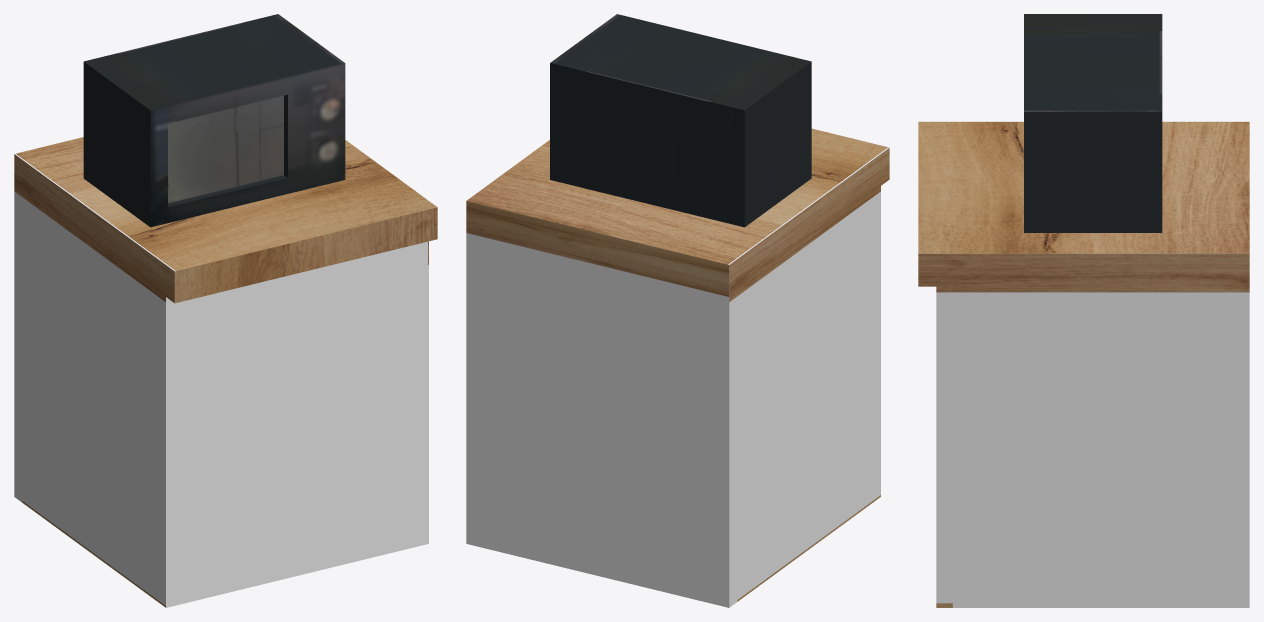
File: mikrofala.1glb.glb
3 views of the same model, side by side, from view 1: azimuth 30°, elevation 25°; view 2: azimuth 150°, elevation 25°; view 3: azimuth 270°, elevation 25° (orthographic). The views are drawn at different scales.
Parts seen in each view (by area): view 1: Cube.077, Cube.002; view 2: Cube.077, Cube.002; view 3: Cube.077, Cube.002.
Part boxes in pixels (bbox=[...]): Cube.077: bbox=[14, 137, 437, 607]; Cube.002: bbox=[83, 14, 345, 227]; Cube.077: bbox=[466, 128, 889, 607]; Cube.002: bbox=[550, 14, 811, 227]; Cube.077: bbox=[918, 121, 1249, 607]; Cube.002: bbox=[1024, 14, 1162, 232].
Size of the model in its own units: 2 by 3.34 by 2.12.
2 materials, 2 textured.
